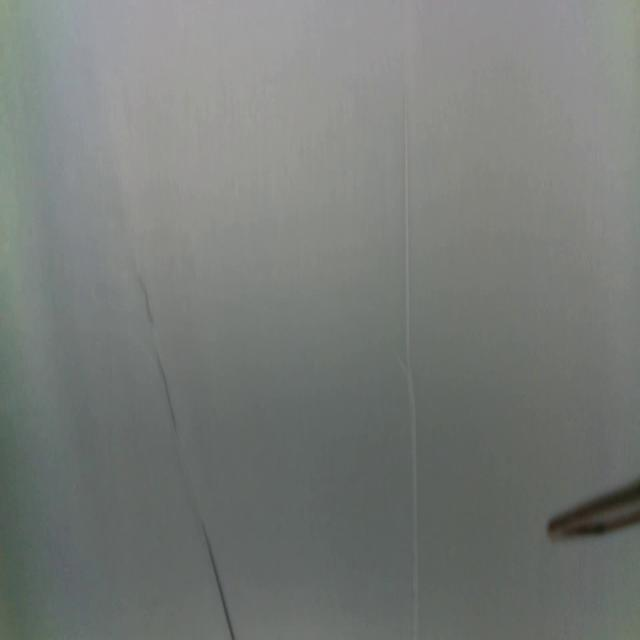crease: (137, 268, 236, 640), (402, 96, 419, 640)
